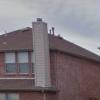Chimney: (24, 14, 63, 98)
